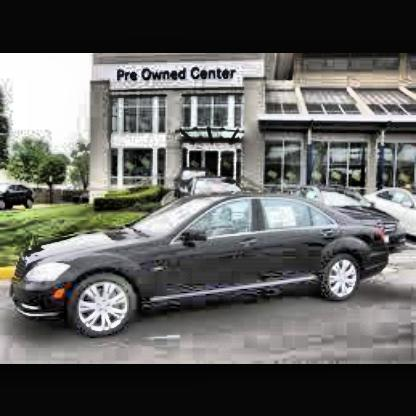Mercedes-Benz S-Class Sedan 2012: (13, 190, 396, 345)
